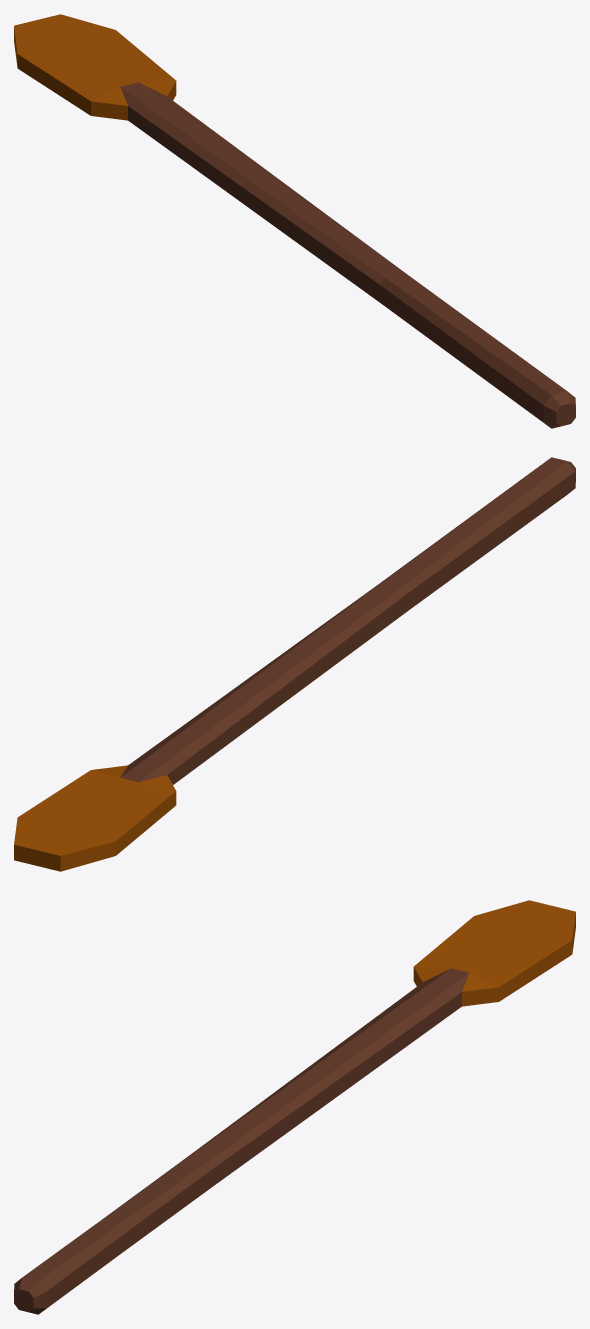
Rendered from GEO_oar.fbx.
3 views of the same model, one above another, from view 1: azimuth 30°, elevation 25°; view 2: azimuth 150°, elevation 25°; view 3: azimuth 330°, elevation 25° (orthographic).
Visible parts, largest first — view 1: GEO_oar; view 2: GEO_oar; view 3: GEO_oar.
Part boxes in pixels (x1=…): GEO_oar: x1=14, y1=14, x2=575, y2=428; GEO_oar: x1=14, y1=457, x2=575, y2=871; GEO_oar: x1=14, y1=900, x2=575, y2=1314.
Size of the model in its own units: 26.76 by 8.7 by 250.
